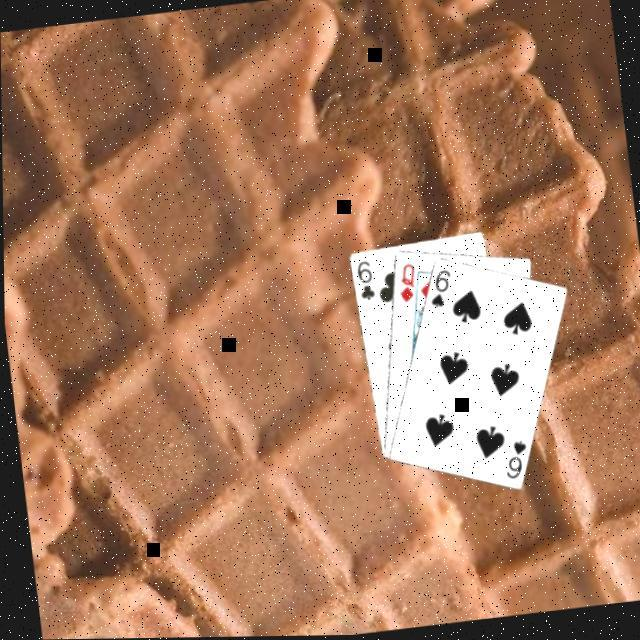6C: (351, 256, 378, 304)
6S: (498, 436, 531, 482), (424, 266, 456, 310)
QD: (392, 260, 421, 306)
